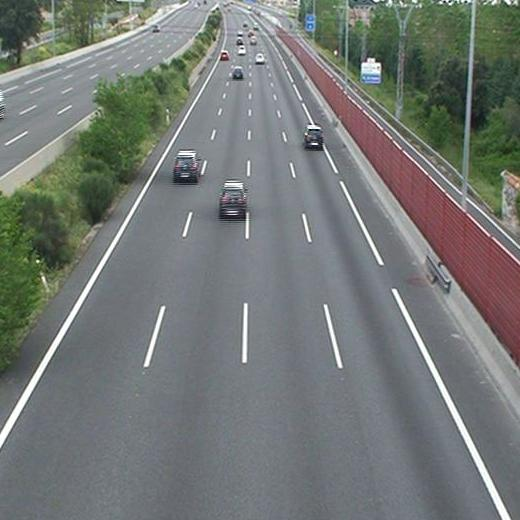car: (219, 182, 247, 214), (174, 153, 198, 179), (303, 127, 324, 148), (232, 66, 243, 79), (255, 54, 264, 63), (219, 50, 229, 58), (237, 45, 244, 54), (249, 37, 256, 44)
